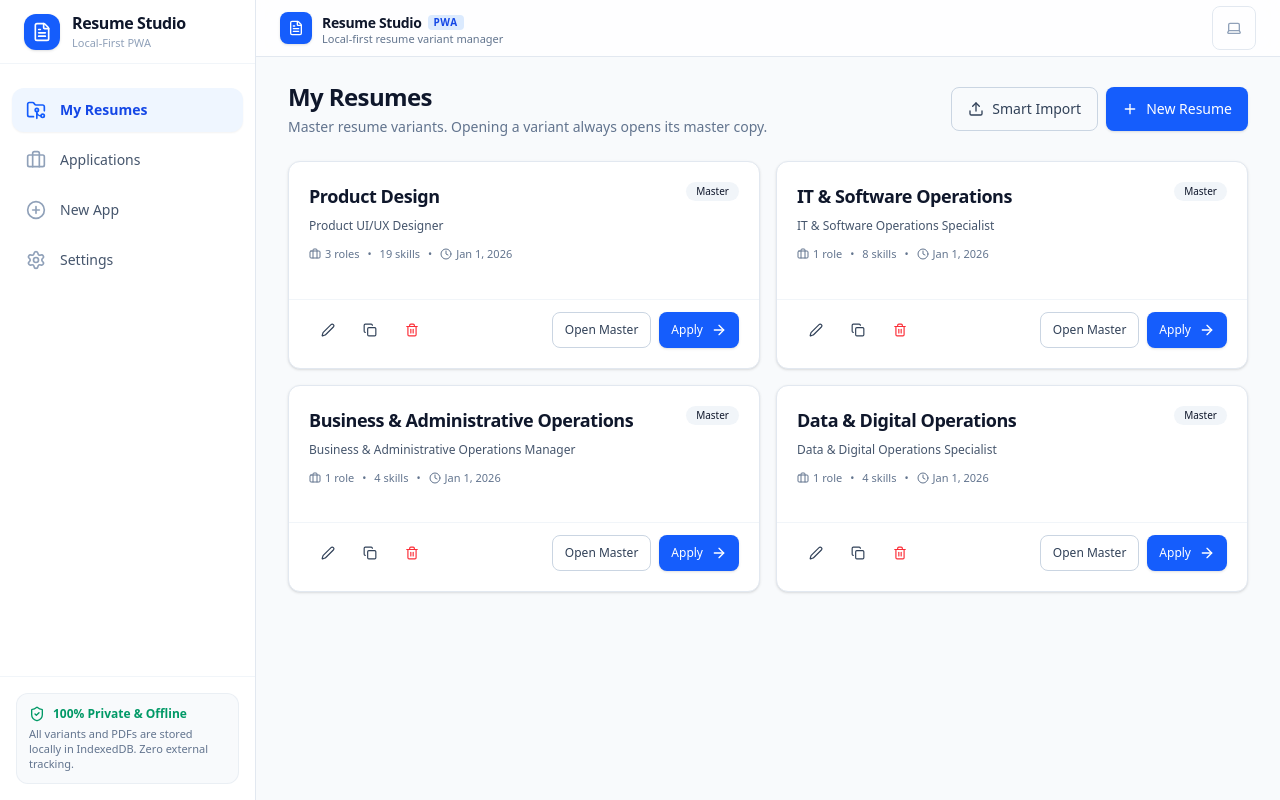
Scenario: Phase 3 Integration: Resume Library & Application Creation Flow › My Resumes (Master Variant Library) › duplicates a master variant into an independent copy
Expected: the heading "My Resumes" is shown, [288,80,432,113]
Click the button titled "duplicate master variant" below "roles": click(370, 330) [351,312,389,348]
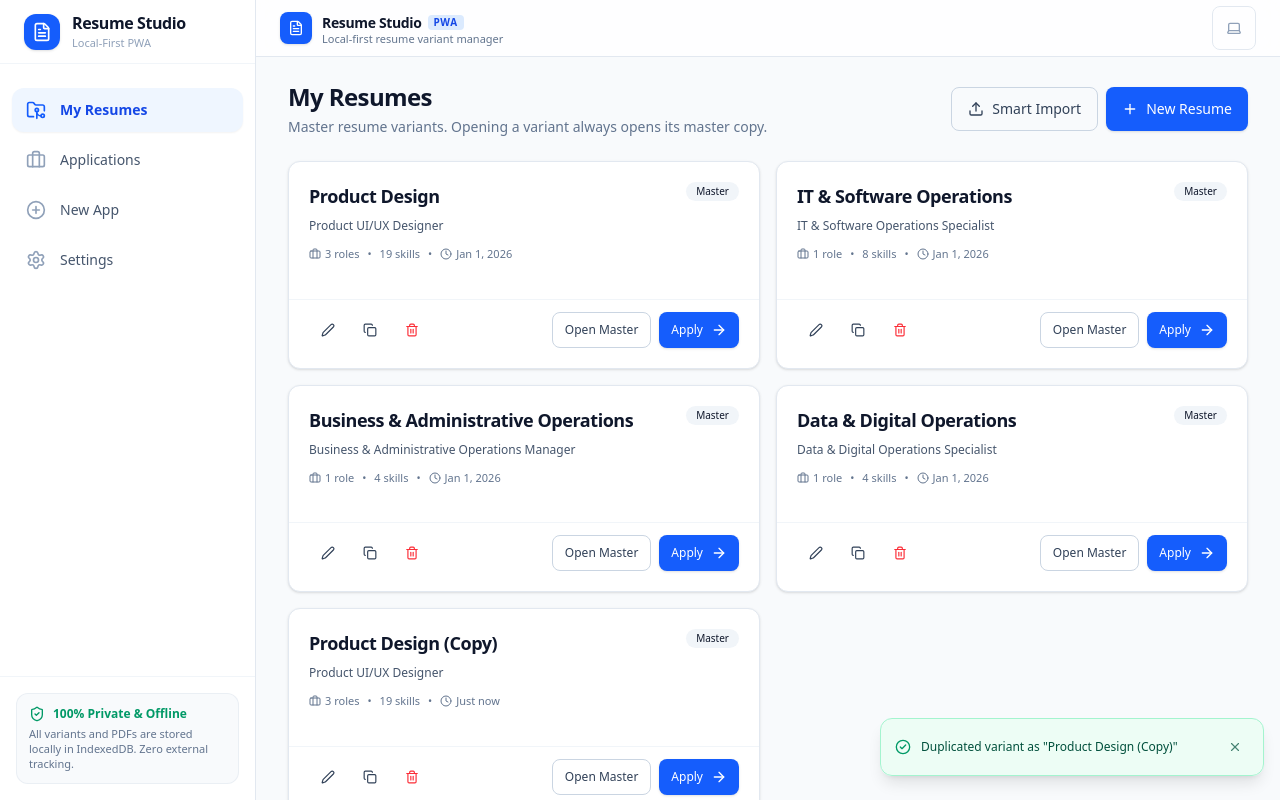
Now the heading "Product Design (Copy)" is shown, box [309,629,497,657]
